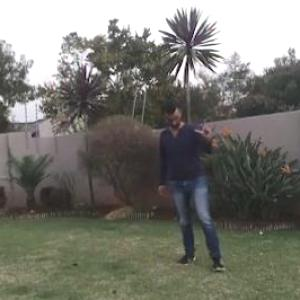land_hand: (190, 111, 212, 142)
